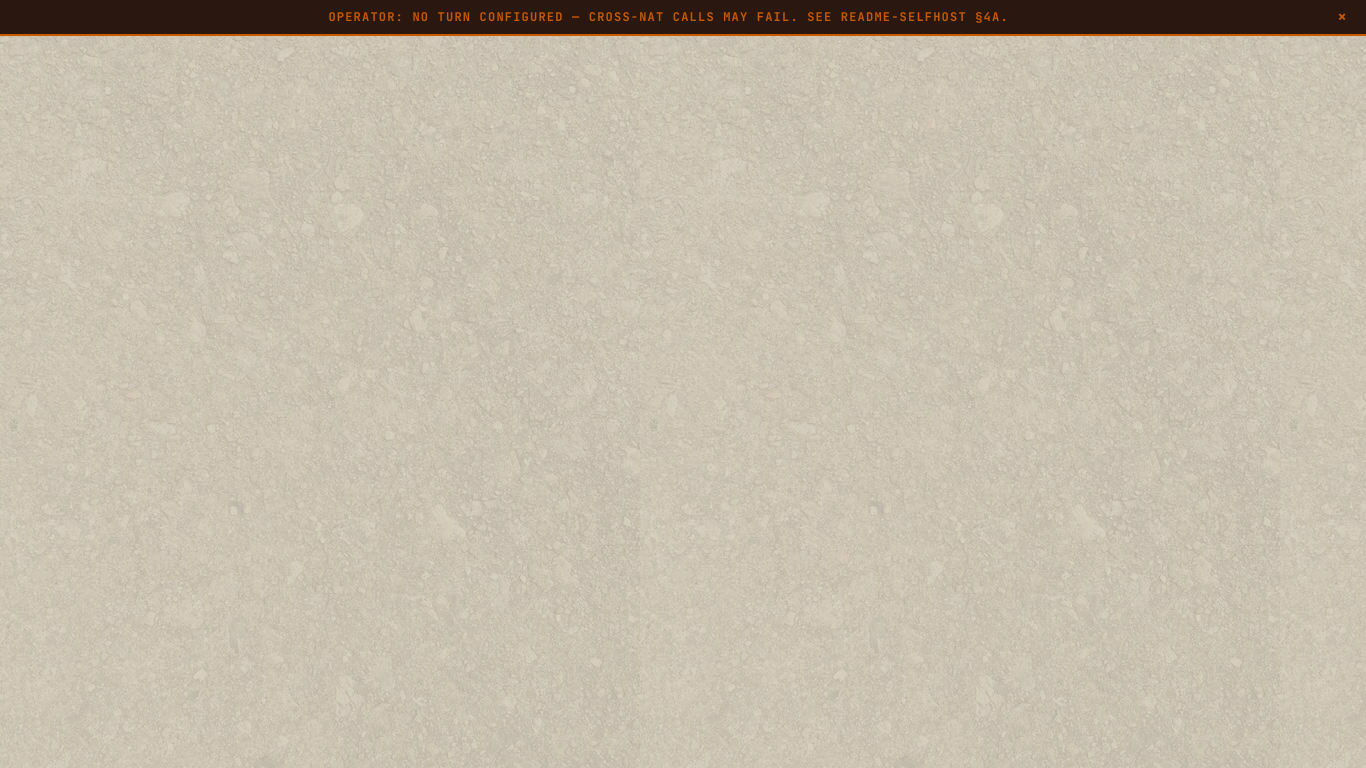
Test: NoTurnBanner › hides immediately after clicking dismiss and persists the choice
Click the button with test id "no-turn-banner-dismiss": (1343, 17) [1333, 9, 1352, 25]
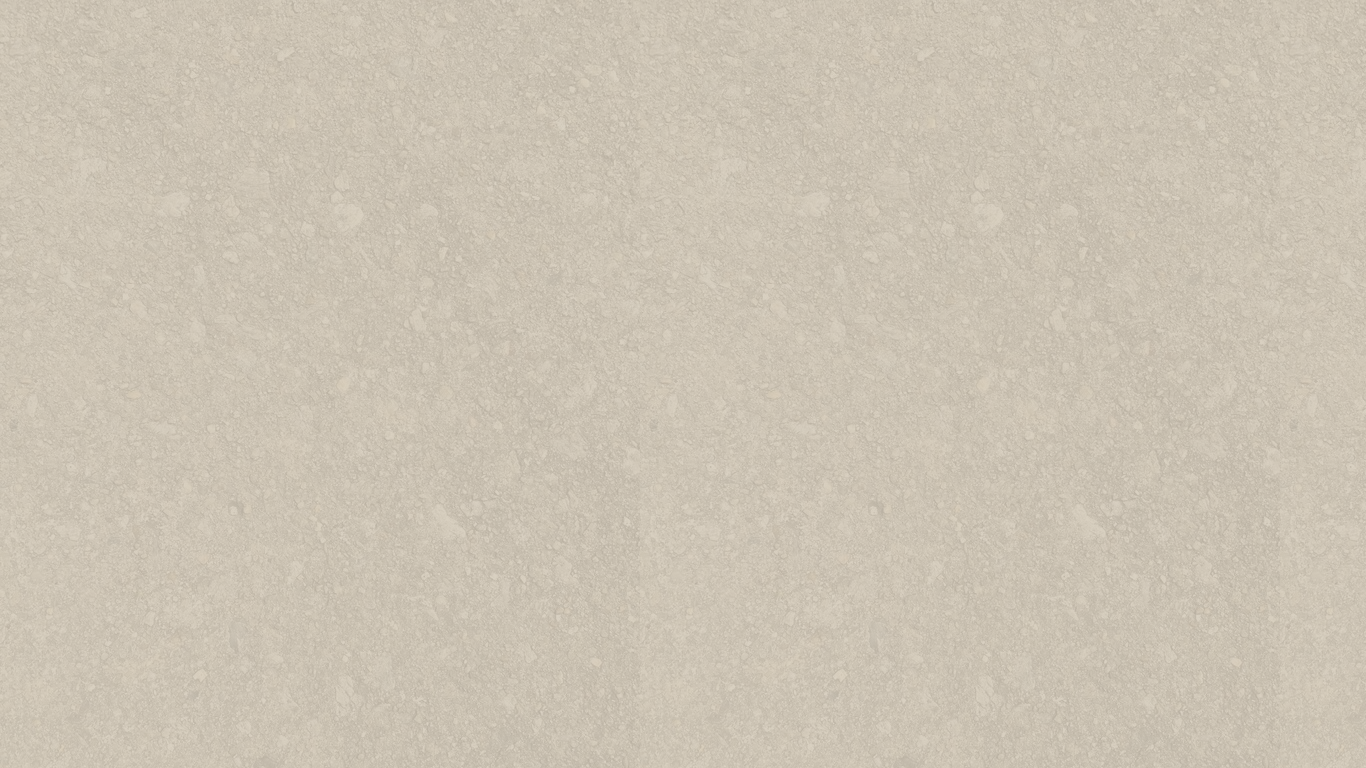
Result: the message with test id "no-turn-banner" is gone
